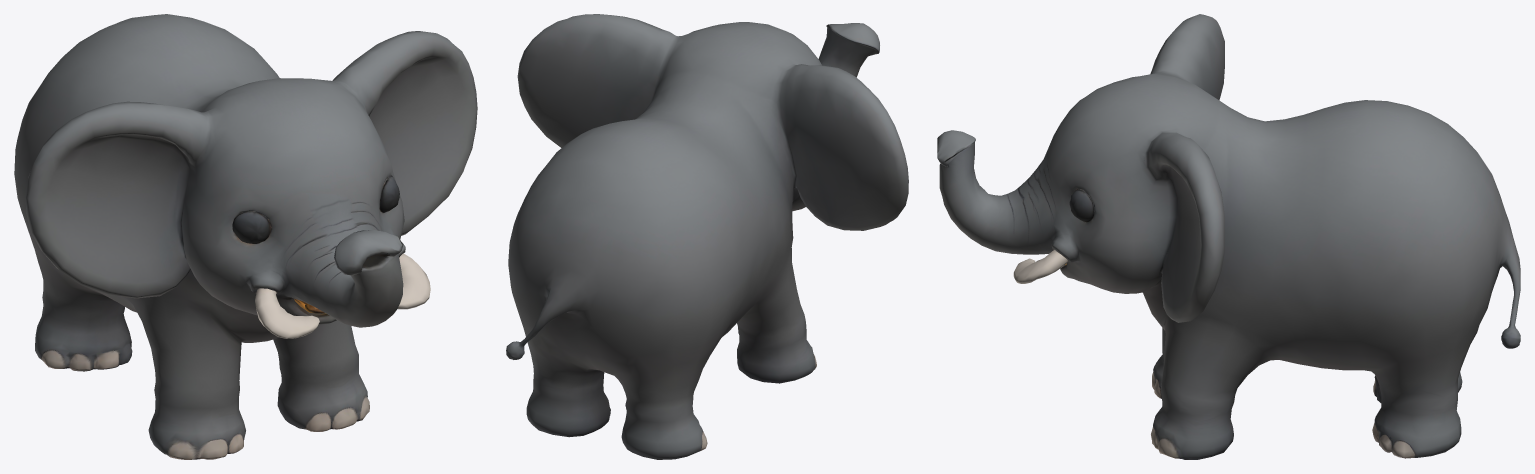
File: elephant.glb
3 views of the same model, side by side, from view 1: azimuth 30°, elevation 25°; view 2: azimuth 150°, elevation 25°; view 3: azimuth 270°, elevation 25° (orthographic). The views are drawn at different scales.
Visible parts, largest first — view 1: tripo_node_ea6bf881-346f-4820-b86e-337f0dd653e7; view 2: tripo_node_ea6bf881-346f-4820-b86e-337f0dd653e7; view 3: tripo_node_ea6bf881-346f-4820-b86e-337f0dd653e7.
Boxes of the visible parts, <box> form: tripo_node_ea6bf881-346f-4820-b86e-337f0dd653e7: <box>14,14,477,459</box>; tripo_node_ea6bf881-346f-4820-b86e-337f0dd653e7: <box>506,14,908,459</box>; tripo_node_ea6bf881-346f-4820-b86e-337f0dd653e7: <box>937,14,1520,459</box>.
Bounding box in the file's own units: 0.8145 × 0.627 × 0.998.
1 material, 1 textured.
